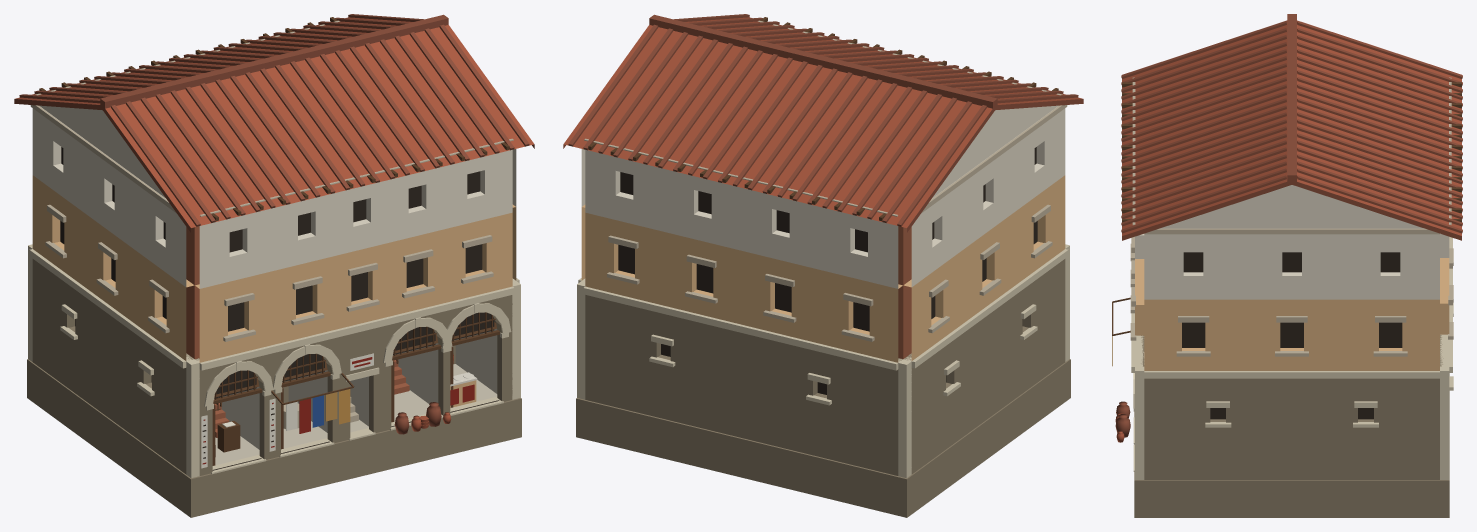
The model's file is rome_insula_n.glb.
The picture shows the model from 3 angles, left to right: view 1: azimuth 30°, elevation 25°; view 2: azimuth 150°, elevation 25°; view 3: azimuth 270°, elevation 25°; orthographic projection. The views are drawn at different scales.
Visible parts, largest first — view 1: rome_insula_n; view 2: rome_insula_n; view 3: rome_insula_n.
Boxes of the visible parts, x1=… form: rome_insula_n: x1=14, y1=14, x2=534, y2=517; rome_insula_n: x1=563, y1=14, x2=1083, y2=517; rome_insula_n: x1=1112, y1=14, x2=1462, y2=517.
Bounding box in the file's own units: 14.6 × 14.58 × 13.42.
